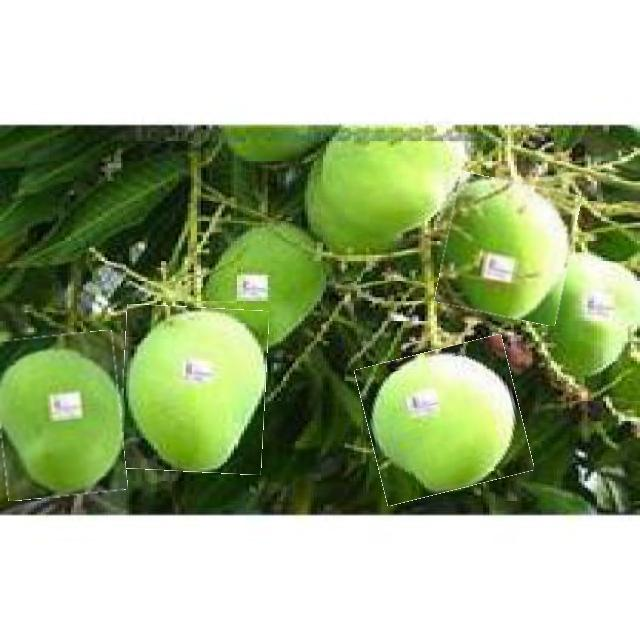mango: (362, 342, 527, 498), (121, 306, 267, 474), (0, 332, 124, 498), (440, 177, 575, 320)
